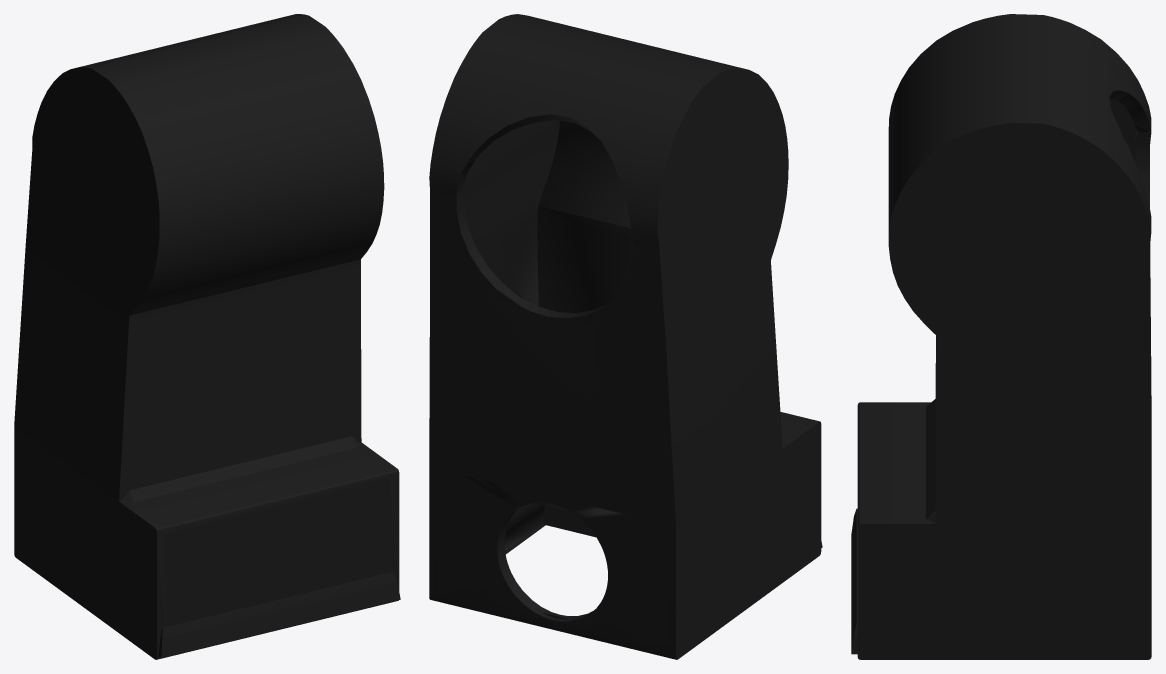
The model's file is RSPiernaDer.obj.
3 views of the same model, side by side, from view 1: azimuth 30°, elevation 25°; view 2: azimuth 150°, elevation 25°; view 3: azimuth 270°, elevation 25° (orthographic). The views are drawn at different scales.
Parts seen in each view (by area): view 1: PiernaDer; view 2: PiernaDer; view 3: PiernaDer.
Part boxes in pixels (<box>): PiernaDer: <box>14,14,400,659</box>; PiernaDer: <box>429,14,822,659</box>; PiernaDer: <box>851,14,1151,659</box>.
Bounding box in the file's own units: 10.8 × 22.18 × 11.23.
